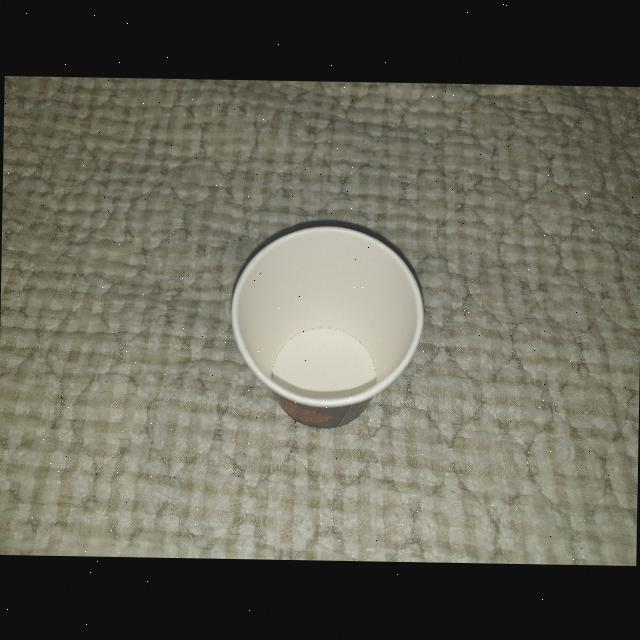trash: (226, 214, 434, 434)
